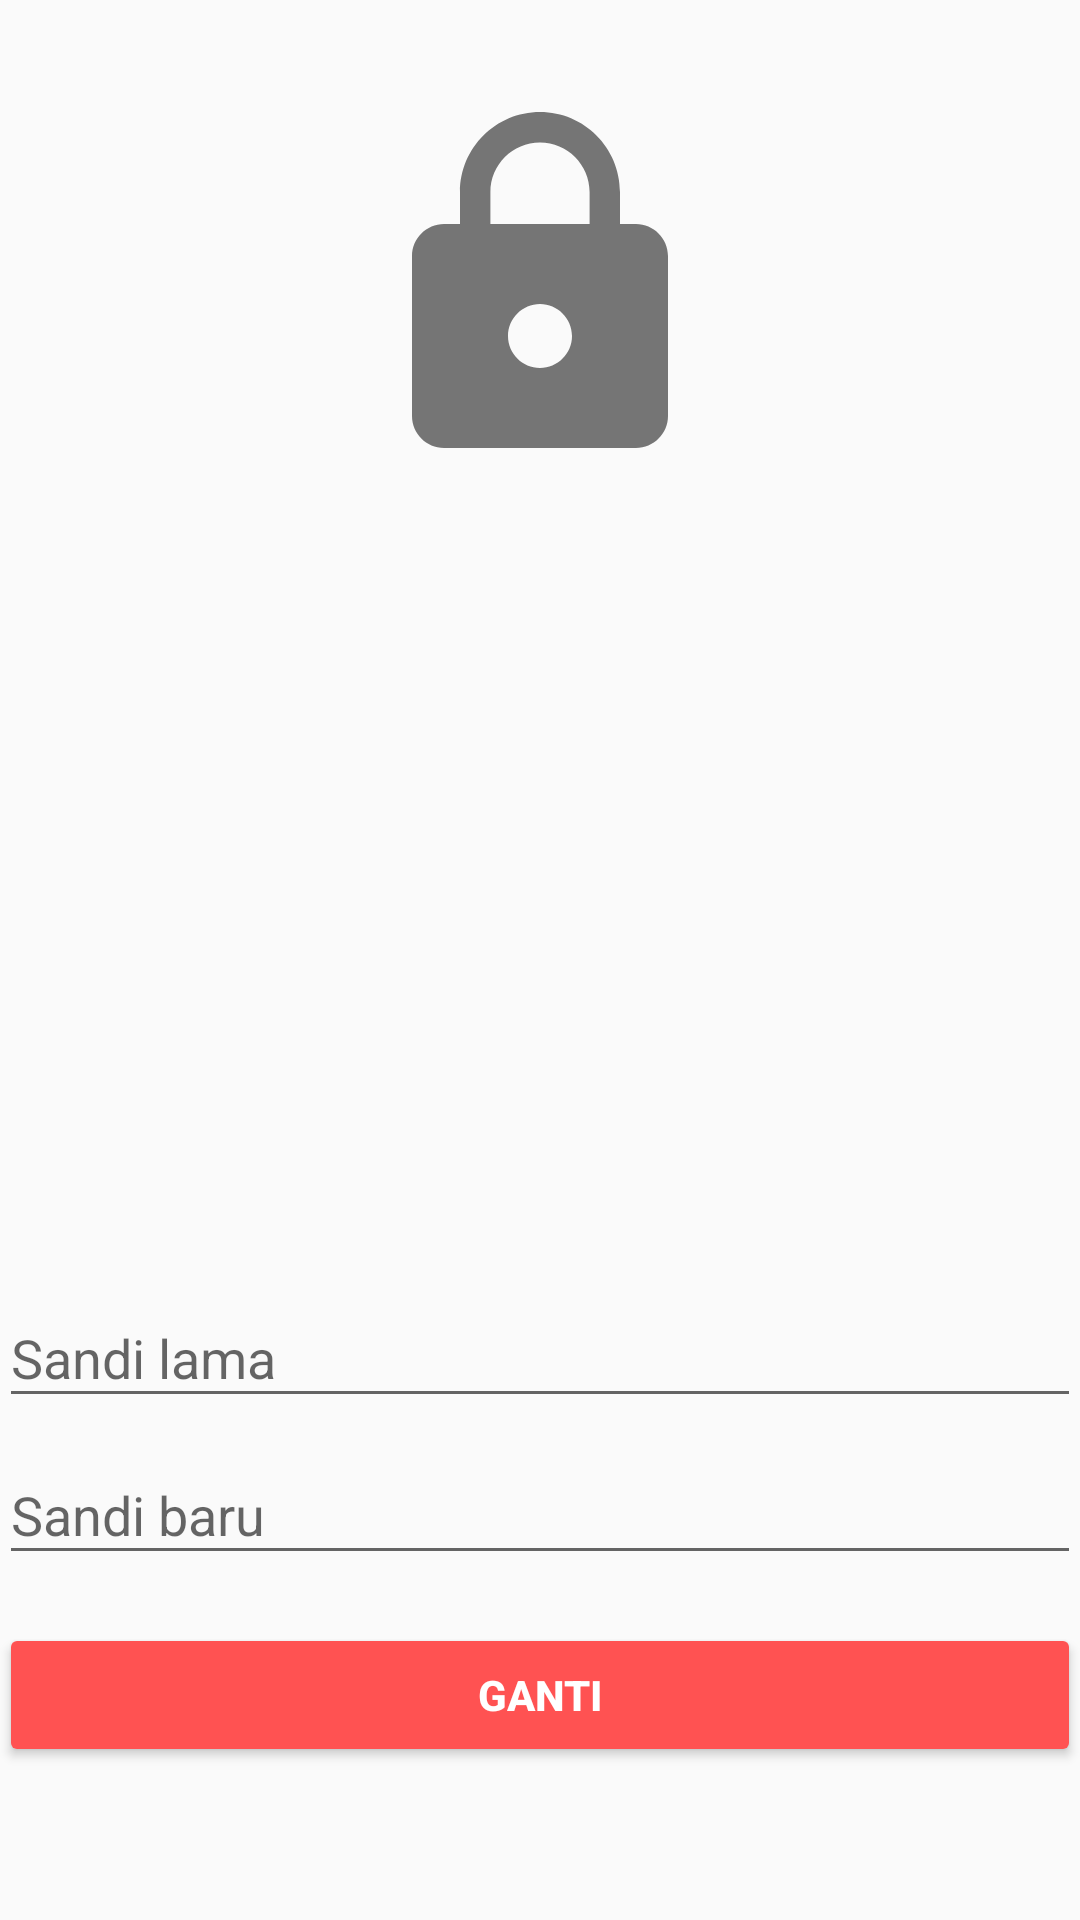

Where icons sit on this 1080x1920 app screen, as bbox=(x1, y1, x2, y2):
lock: bbox=(412, 112, 668, 448)
